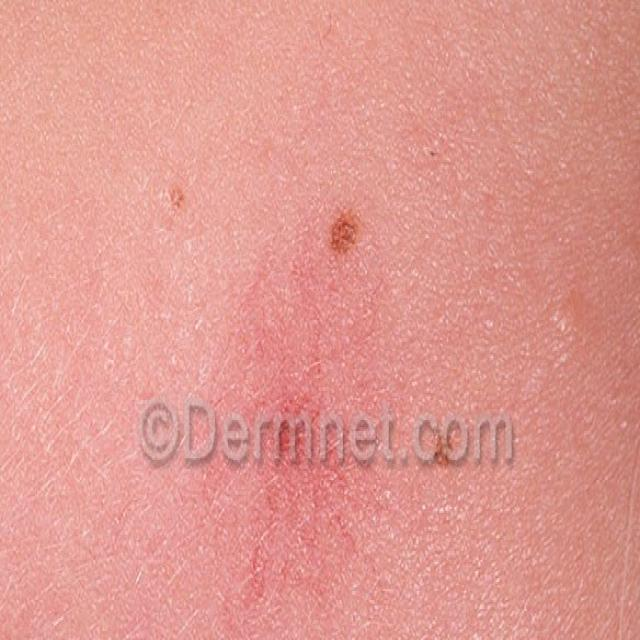Vascular Tumors: (183, 271, 368, 640), (425, 413, 480, 517), (331, 189, 381, 266), (160, 171, 196, 232)
